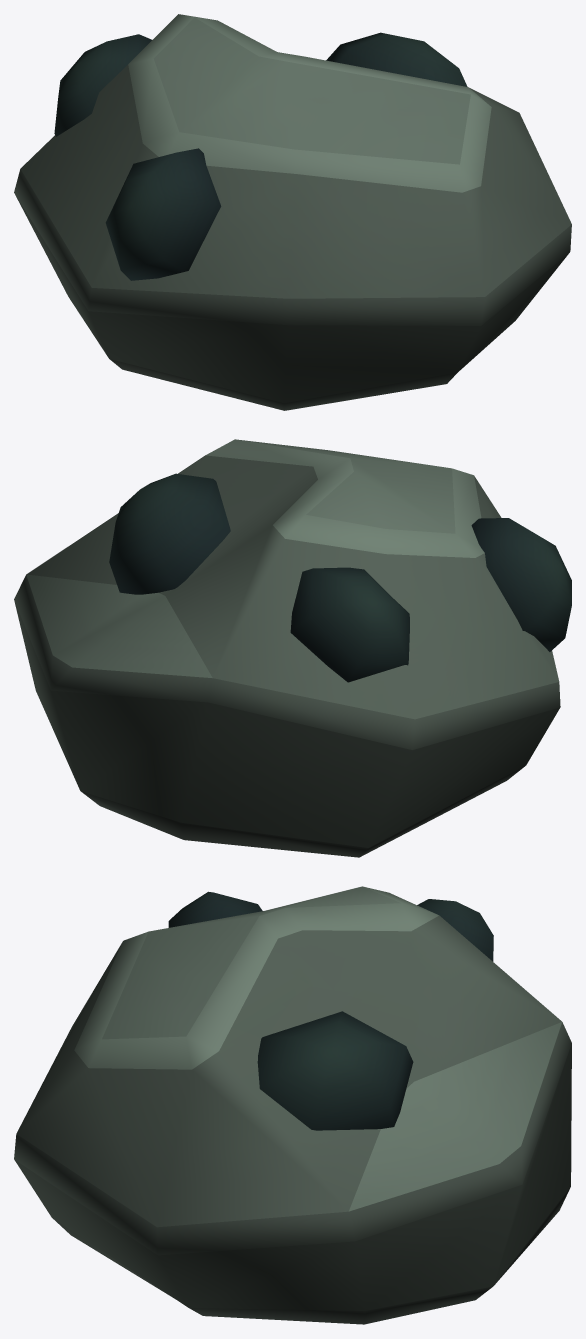
Rendered from ore_nuggets_coal_S.fbx.
The picture shows the model from 3 angles, top to bottom: view 1: azimuth 30°, elevation 25°; view 2: azimuth 150°, elevation 25°; view 3: azimuth 270°, elevation 25°; orthographic projection. The views are drawn at different scales.
Visible parts, largest first — view 1: ore_nuggets_coal_S; view 2: ore_nuggets_coal_S; view 3: ore_nuggets_coal_S.
Boxes of the visible parts, <box> form: ore_nuggets_coal_S: <box>14,14,571,410</box>; ore_nuggets_coal_S: <box>14,439,571,857</box>; ore_nuggets_coal_S: <box>14,886,571,1324</box>.
Bounding box in the file's own units: 115 × 79.89 × 110.
Materials: 1 (1 with a texture image).
